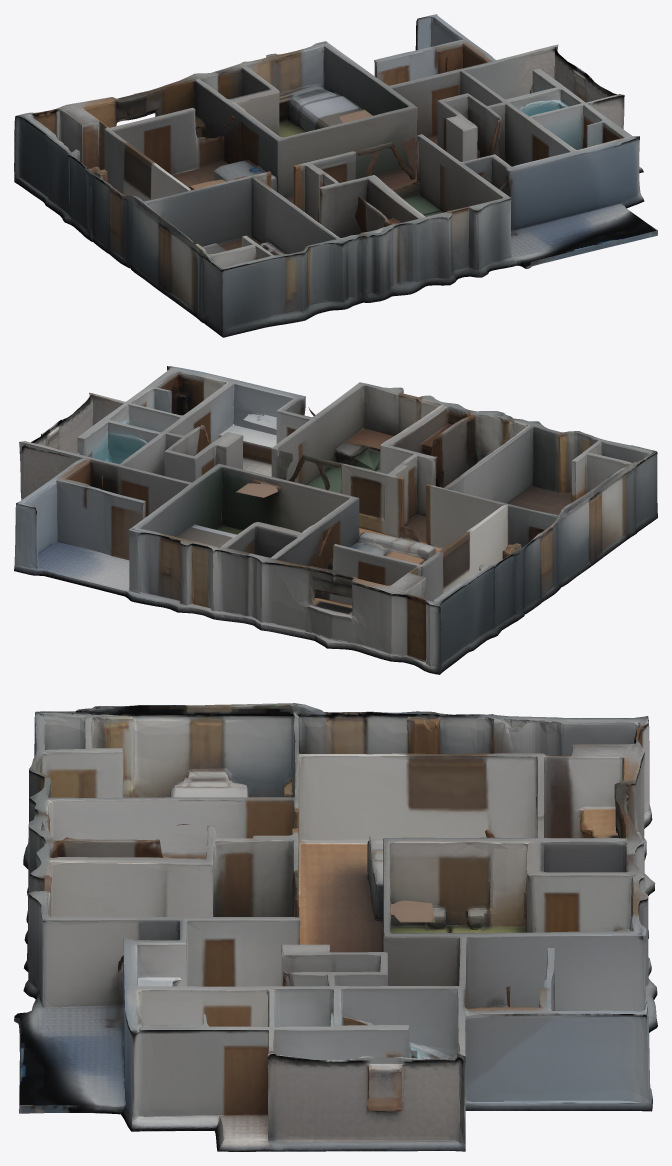
3 views of the same model, one above another, from view 1: azimuth 30°, elevation 25°; view 2: azimuth 150°, elevation 25°; view 3: azimuth 270°, elevation 25° (orthographic). The views are drawn at different scales.
Parts seen in each view (by area): view 1: world; view 2: world; view 3: world.
Part boxes in pixels (bbox=[...]): world: bbox=[14, 14, 657, 337]; world: bbox=[14, 366, 657, 674]; world: bbox=[14, 703, 657, 1151].
Bounding box in the file's own units: 1 × 0.1478 × 0.7896.
1 material, 1 textured.
